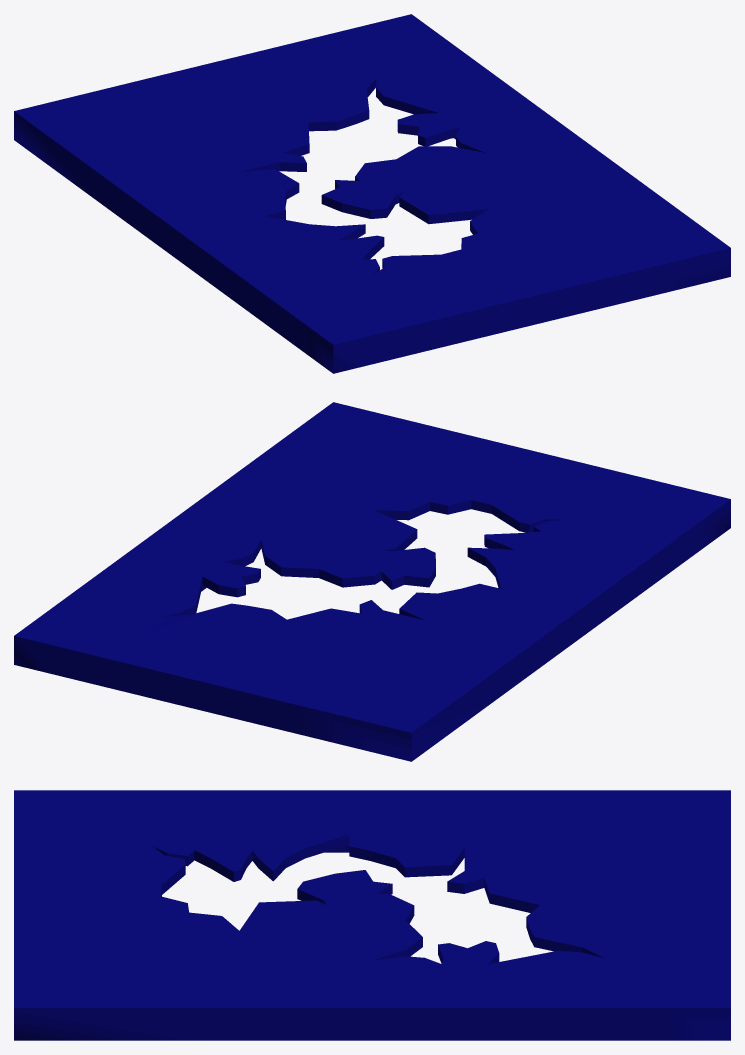
File: test plafond 3.fbx
3 views of the same model, one above another, from view 1: azimuth 30°, elevation 25°; view 2: azimuth 150°, elevation 25°; view 3: azimuth 270°, elevation 25° (orthographic). The views are drawn at different scales.
Visible parts, largest first — view 1: W1_Plafond_Sale_2_002; view 2: W1_Plafond_Sale_2_002; view 3: W1_Plafond_Sale_2_002.
Part boxes in pixels (x1,y1,x2,y2): W1_Plafond_Sale_2_002: (14, 14, 730, 373); W1_Plafond_Sale_2_002: (14, 402, 730, 761); W1_Plafond_Sale_2_002: (14, 790, 730, 1040).
Size of the model in its own units: 2300 by 160 by 3200.
